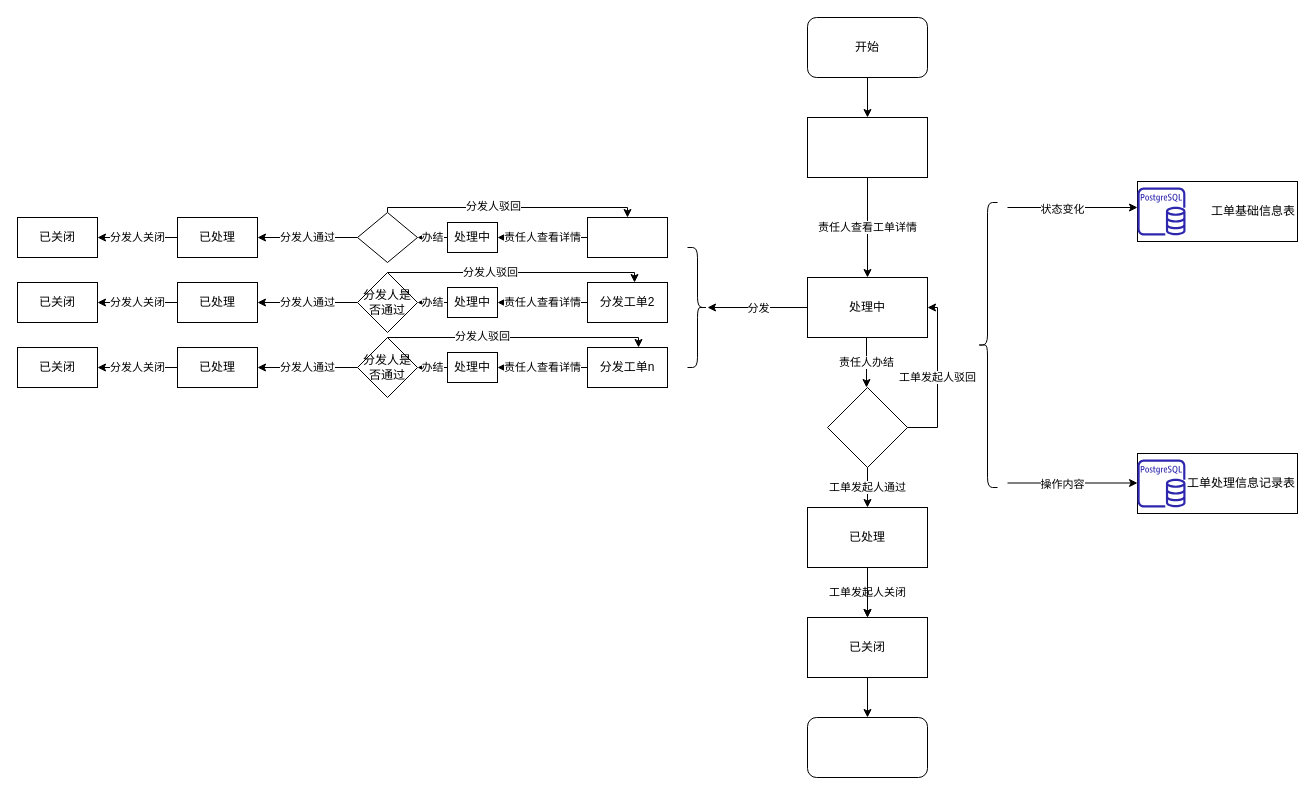
Image size: 1315x795. Some labels were removed from this diagram. The shapes that lost their labels are listed below. From the top down, each one's centre as x and y in pixels, then its label:
At pixel 867 147: "新建工单".
At pixel 387 237: "分发责任人是否通过".
At pixel 627 237: "分发工单1".
At pixel 867 427: "工单发起人是否通过".
At pixel 867 747: "结束".
